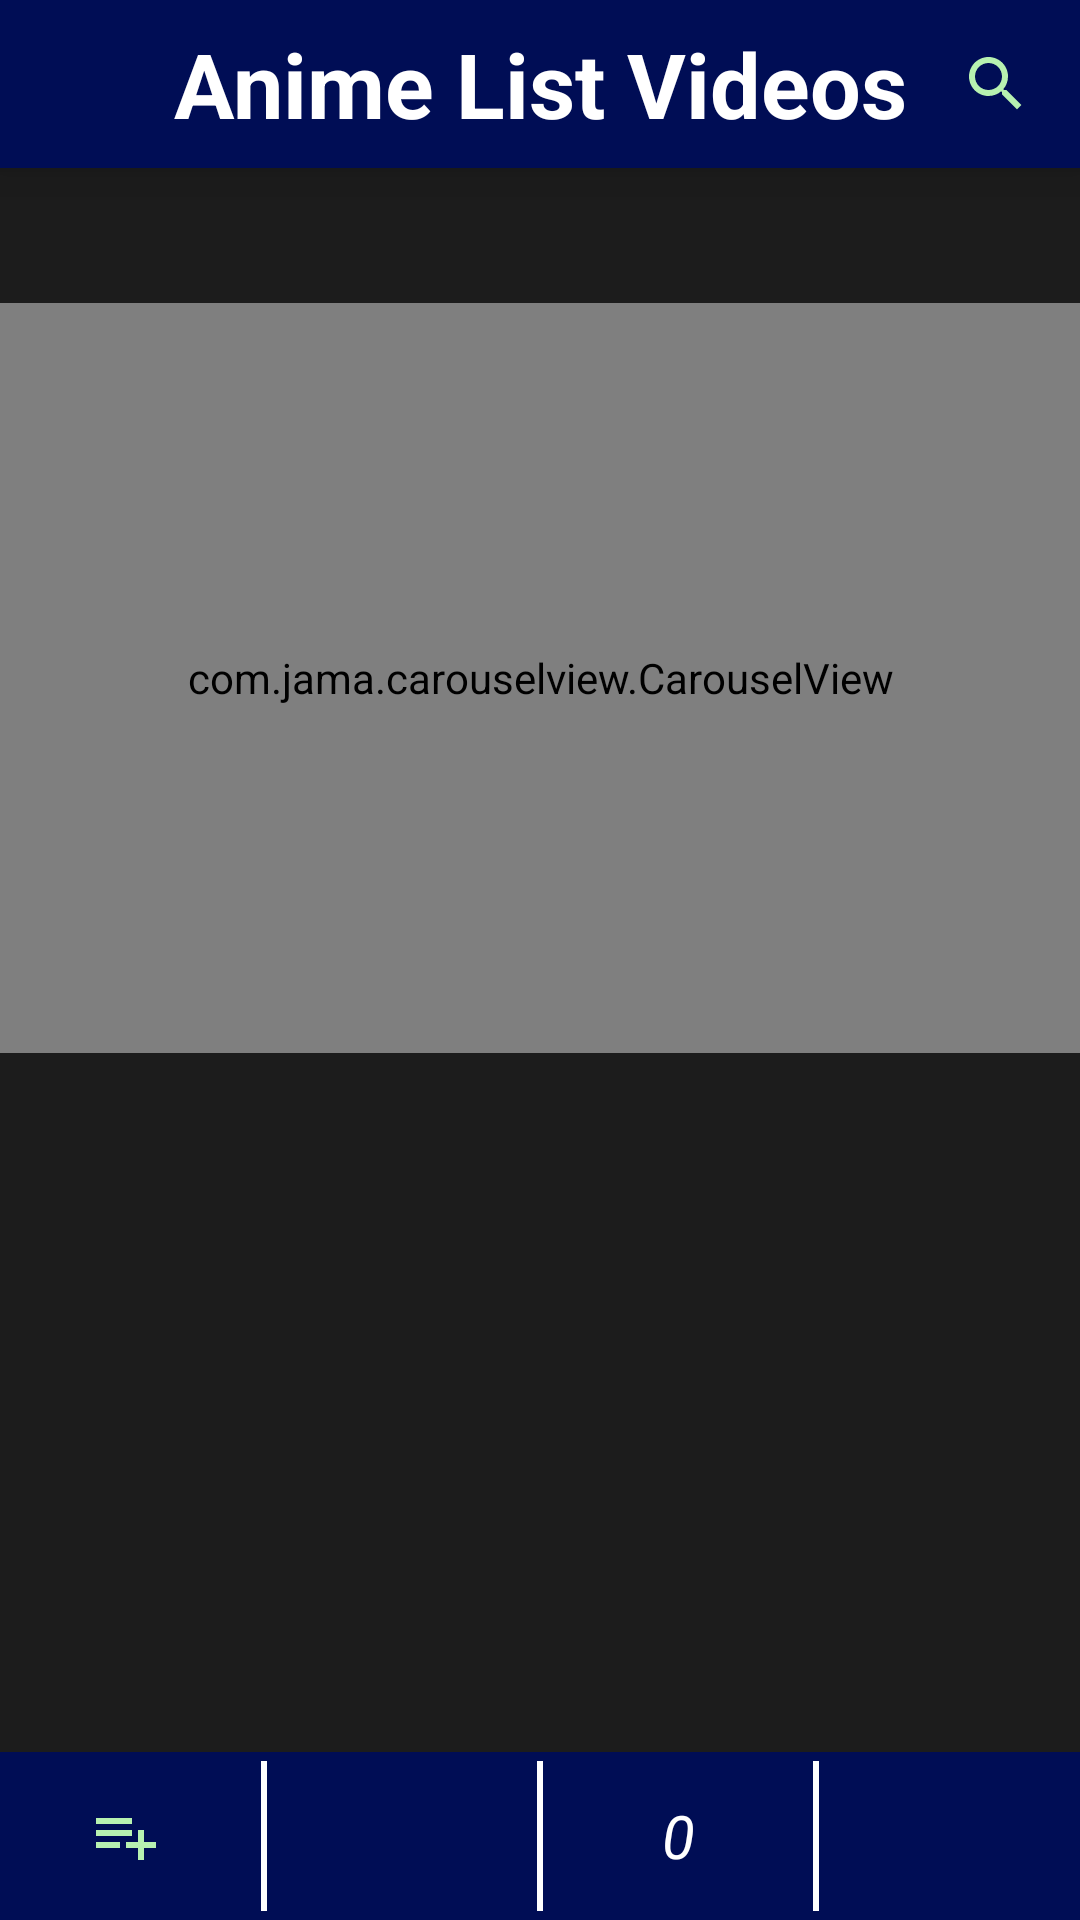

Screen size 1080px x 1920px. Icon name, then its center in pixels as (x,y):
playlist add: (126,1839)
search: (995,83)
